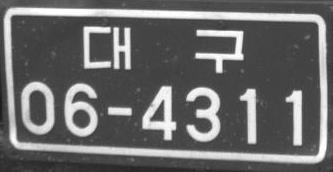0: (20, 80, 55, 136)
1: (235, 88, 268, 145), (280, 90, 313, 146)
3: (185, 84, 221, 142)
4: (142, 84, 177, 140)
6: (64, 81, 97, 137)
대구_D: (82, 25, 245, 73)
